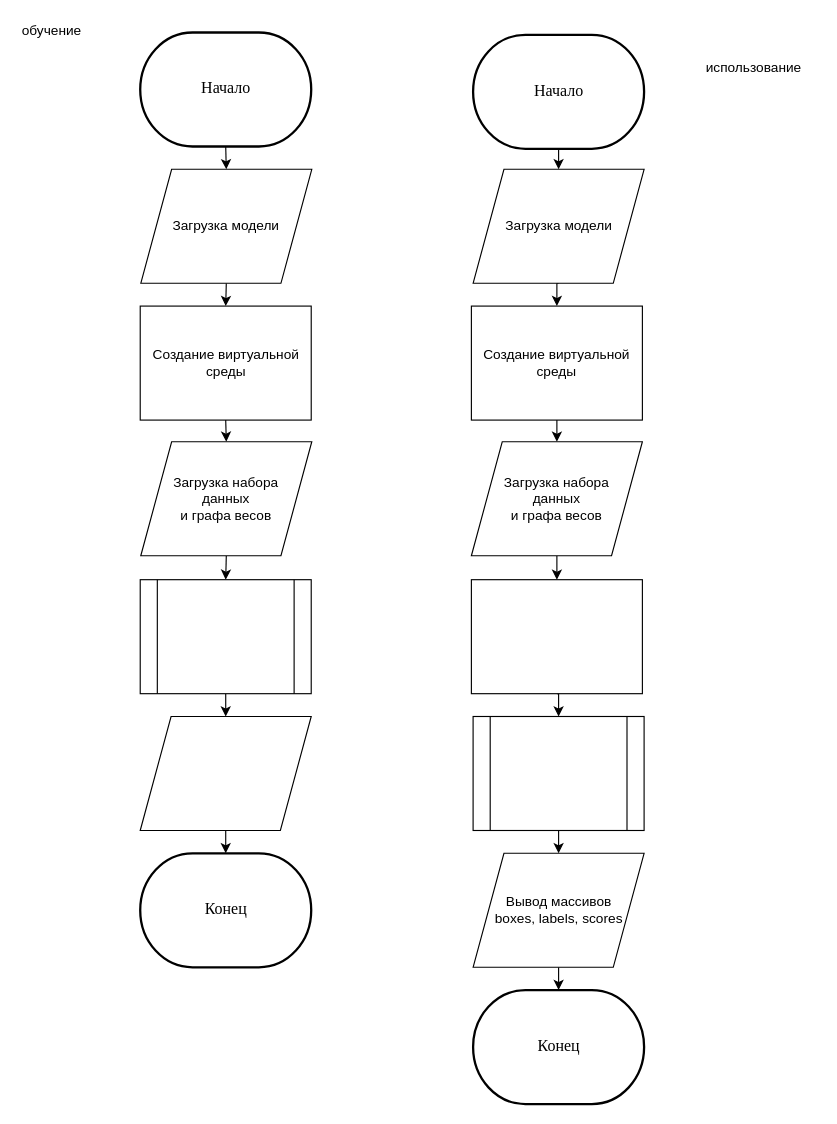
Image size: 837x1124. Some labels were removed from this diagram. Here are the shapes that lost their labels. From the top down, the centre of each, then its label:
At point (225, 636): "Обучение нейронной сети".
At point (556, 636): "Установка порога распознавания".
At point (225, 772): "Сохранение графа весов".
At point (558, 772): "Обработка изображения нейронной сетью".
